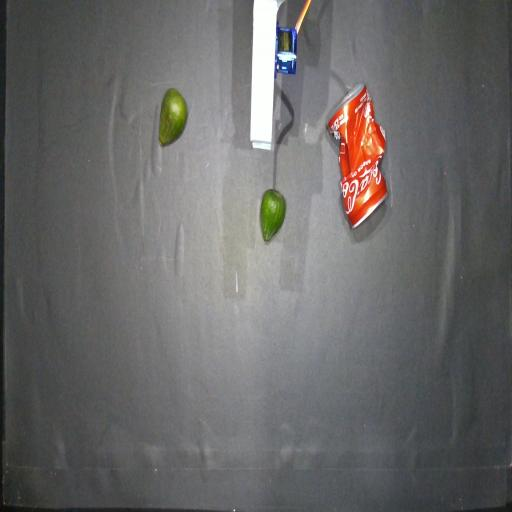higo: (158, 88, 188, 146), (259, 188, 286, 242)
lata_defectuoso: (327, 84, 387, 227)
